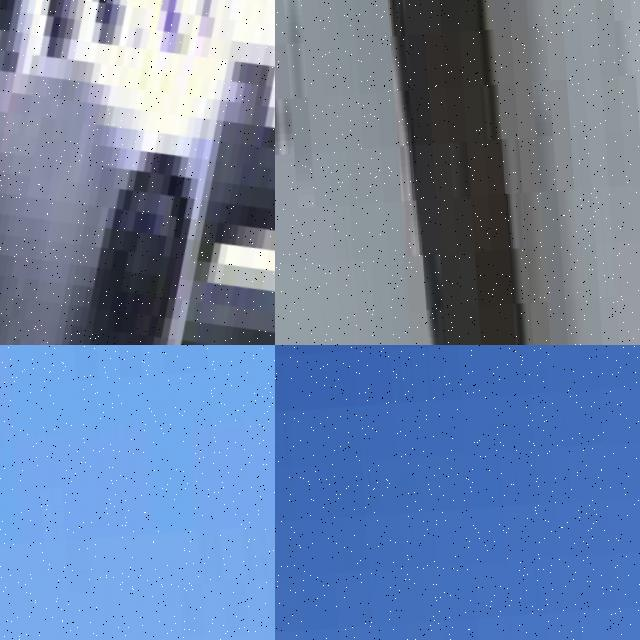drone: (0, 0, 275, 345)
